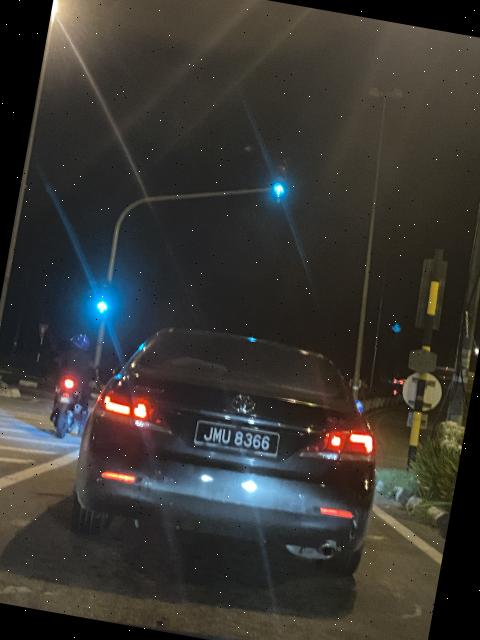License_Plate: (191, 417, 285, 463)
car: (59, 308, 402, 594)
